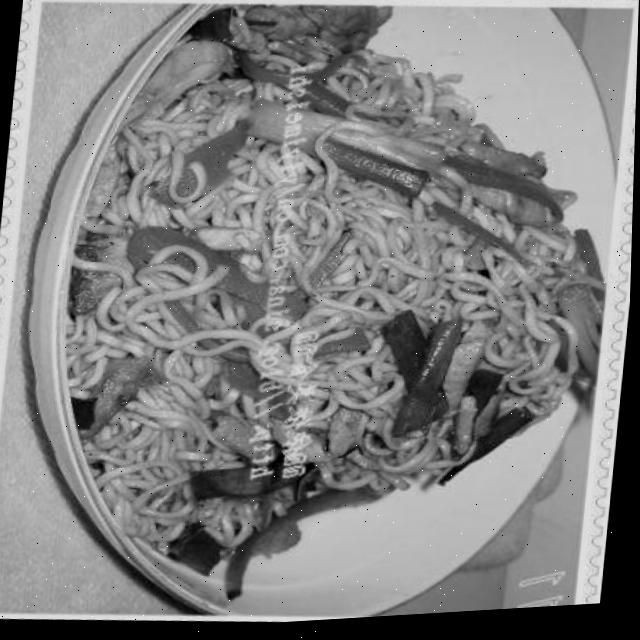面条主食: (49, 0, 619, 621)
